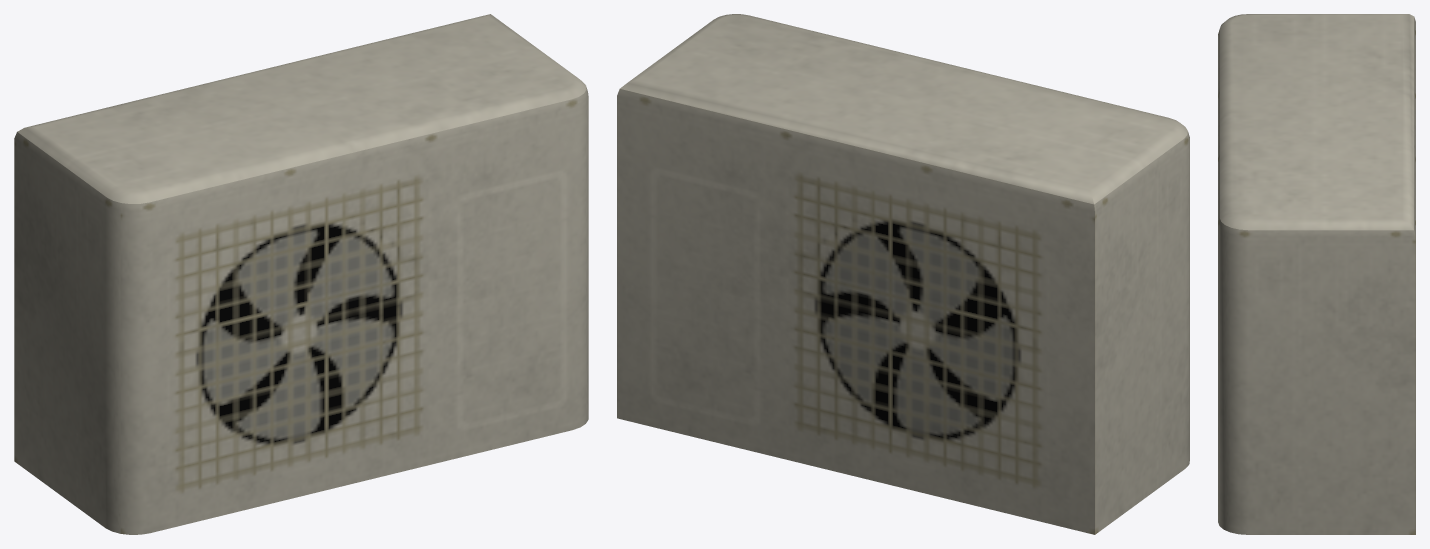
Rendered from prop_acunit.glb.
3 views of the same model, side by side, from view 1: azimuth 30°, elevation 25°; view 2: azimuth 150°, elevation 25°; view 3: azimuth 270°, elevation 25° (orthographic). The views are drawn at different scales.
Parts seen in each view (by area): view 1: Prop_ACUnit; view 2: Prop_ACUnit; view 3: Prop_ACUnit.
Boxes of the visible parts, x1,y1,x2,y2 form: Prop_ACUnit: [14, 14, 588, 534]; Prop_ACUnit: [617, 14, 1189, 534]; Prop_ACUnit: [1218, 14, 1415, 534].
Size of the model in its own units: 0.8932 by 0.6 by 0.3471.
1 material, 1 textured.
